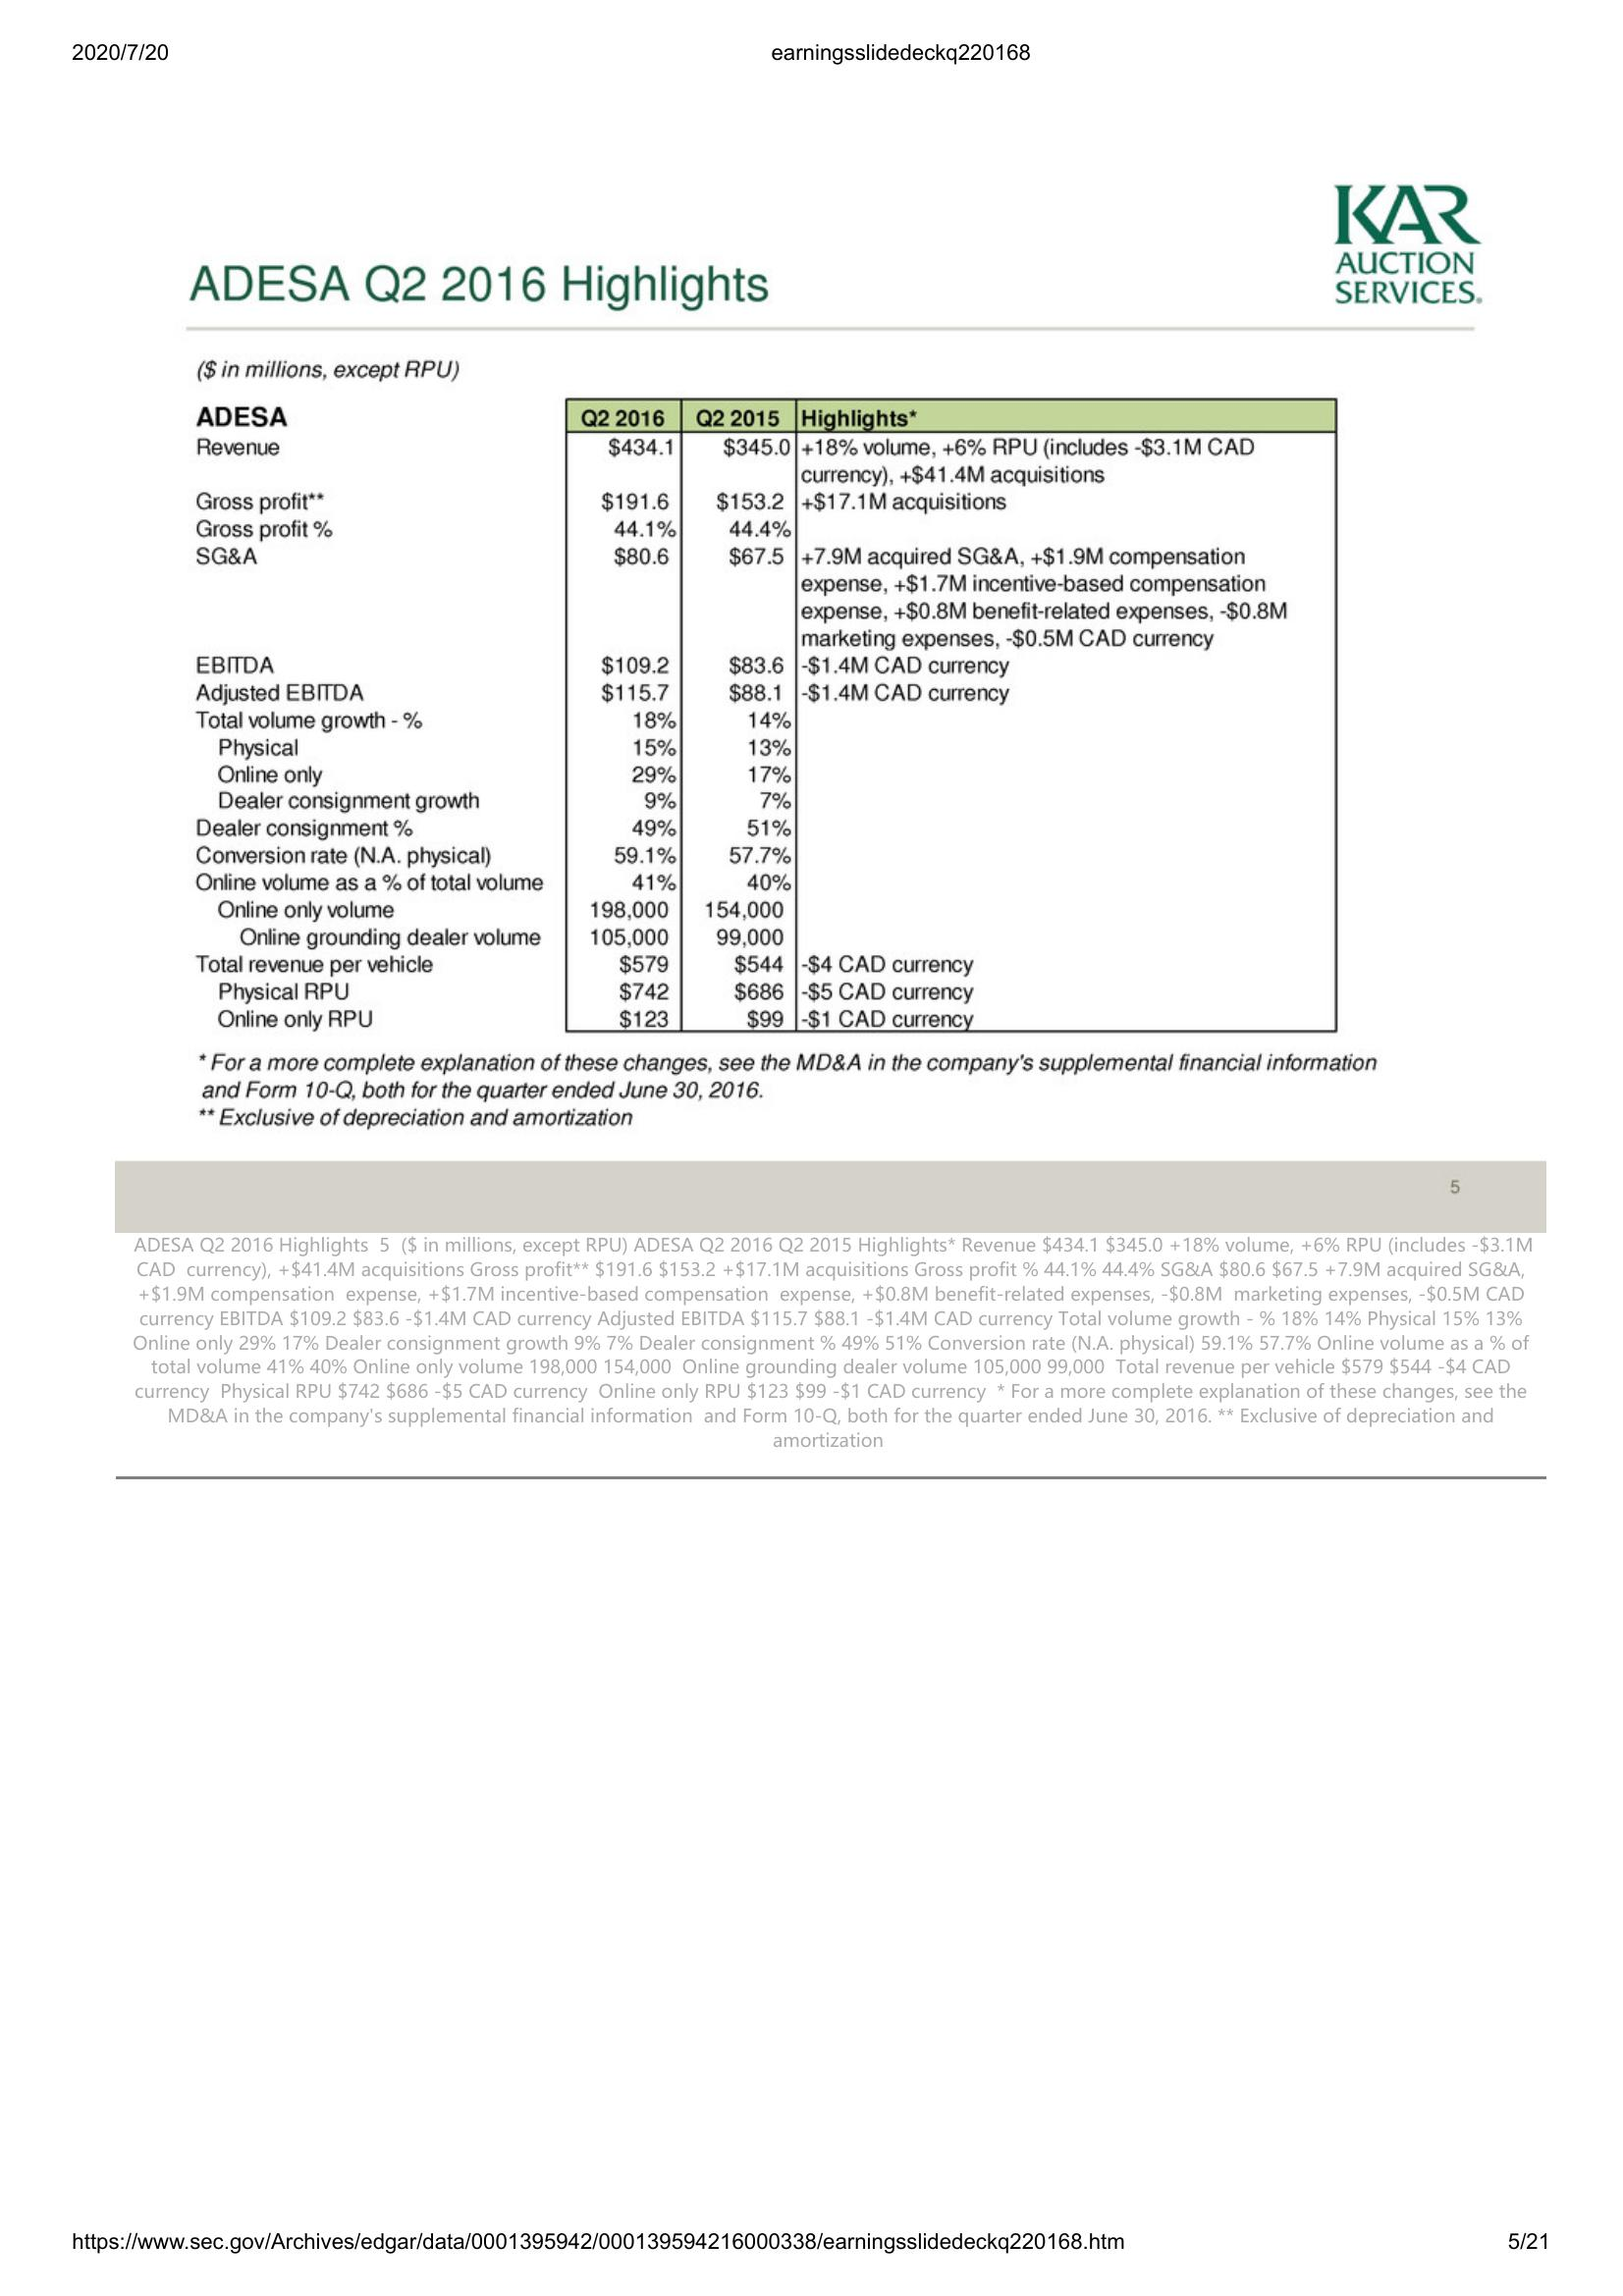table: (559, 395, 1347, 1041)
